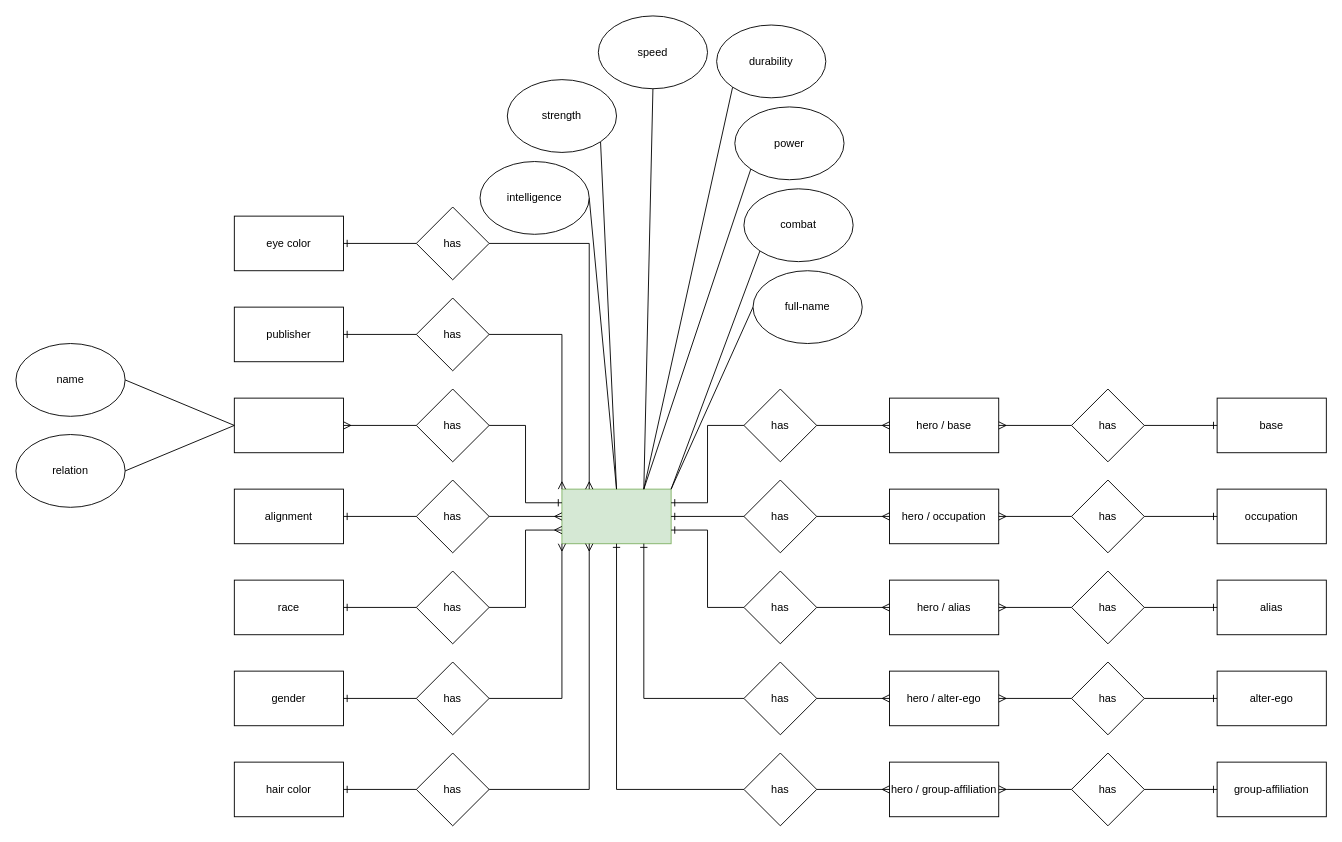
The diagram is 1342 pixels wide and 842 high, and some of its shapes have lost their labels. The shapes that lost their labels are listed below. From the top down, each one's centre as x and y in pixels, then its label:
At point (288, 425): "relative".
At point (616, 516): "superhero".
